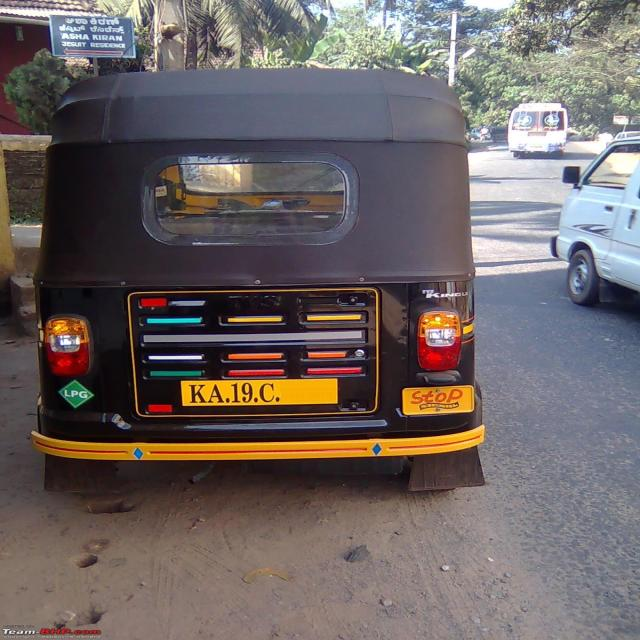autorickshaw: (30, 70, 483, 512)
car: (552, 139, 640, 305)
emergency: (507, 102, 568, 158)
